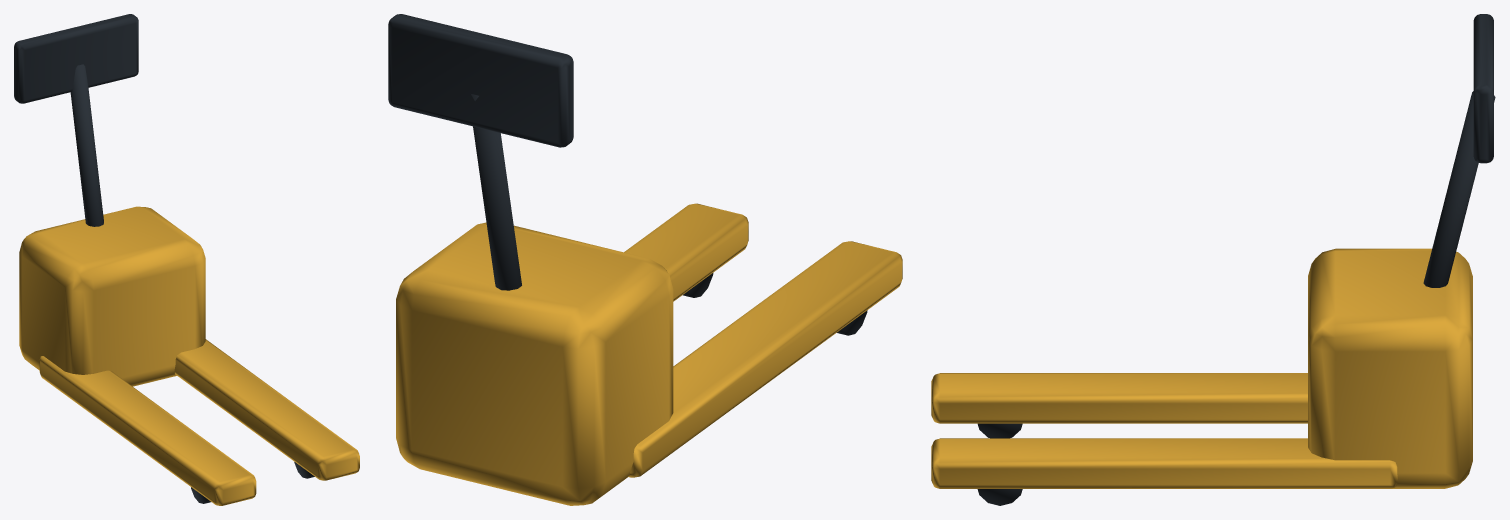
Rendered from warehouse-pallet-jack.glb.
3 views of the same model, side by side, from view 1: azimuth 30°, elevation 25°; view 2: azimuth 150°, elevation 25°; view 3: azimuth 270°, elevation 25° (orthographic). The views are drawn at different scales.
Visible parts, largest first — view 1: interior_4_accent, interior_4_dark; view 2: interior_4_accent, interior_4_dark; view 3: interior_4_accent, interior_4_dark.
Part boxes in pixels (bbox=[...]): interior_4_accent: bbox=[19, 206, 359, 505]; interior_4_dark: bbox=[14, 14, 314, 503]; interior_4_accent: bbox=[396, 203, 902, 505]; interior_4_dark: bbox=[388, 14, 867, 335]; interior_4_accent: bbox=[931, 248, 1472, 488]; interior_4_dark: bbox=[977, 14, 1495, 505].
Bounding box in the file's own units: 0.63 × 1.34 × 1.64.
